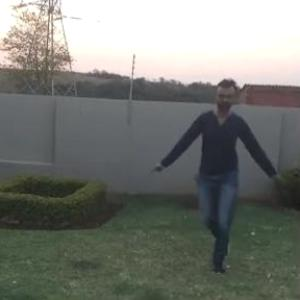land: (171, 87, 276, 241)
